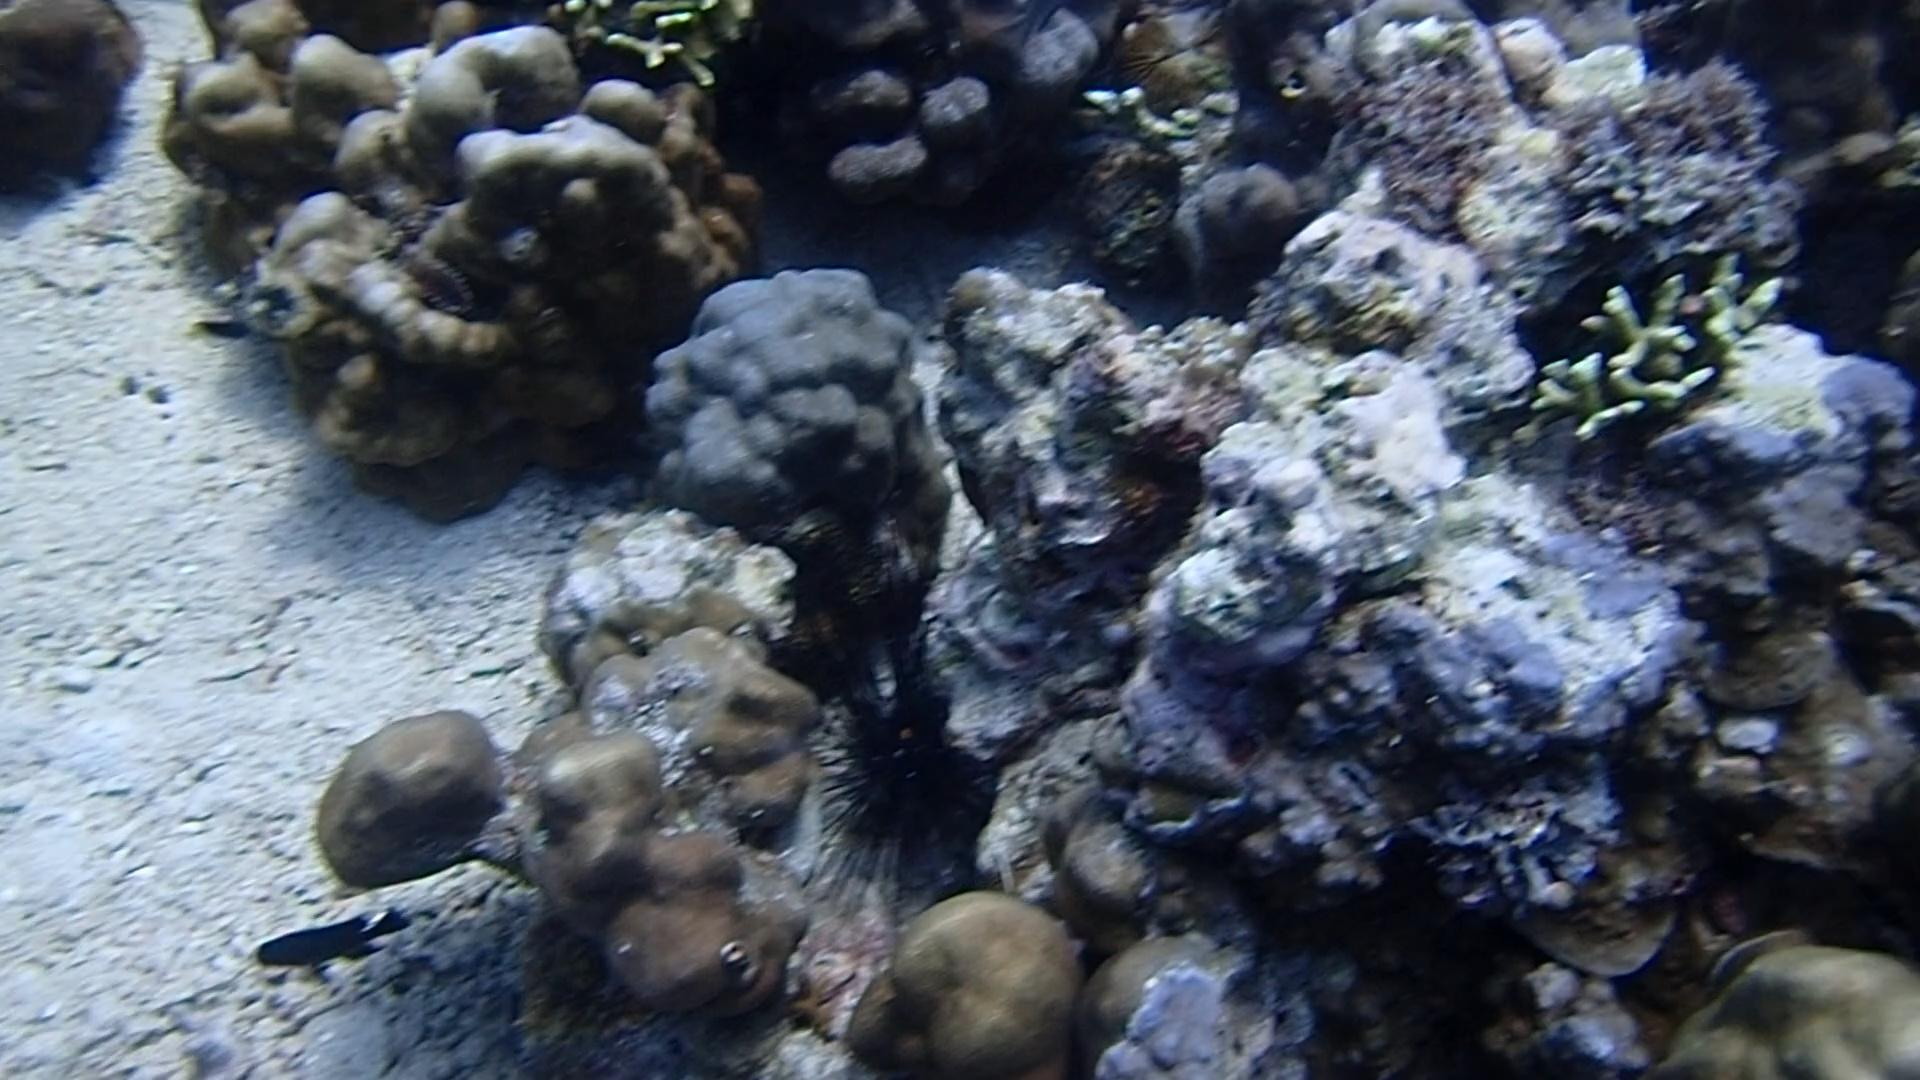Dark Fish: (244, 901, 413, 984)
Yellow Tail: (170, 303, 255, 353)
